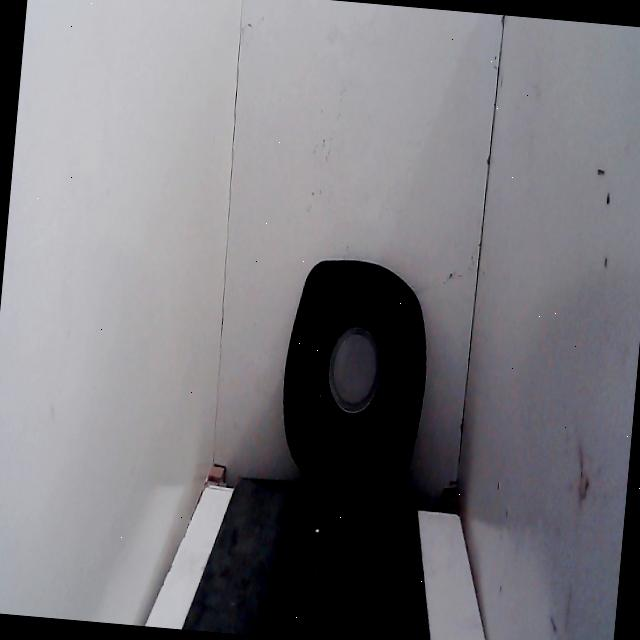plastico: (266, 242, 442, 518)
